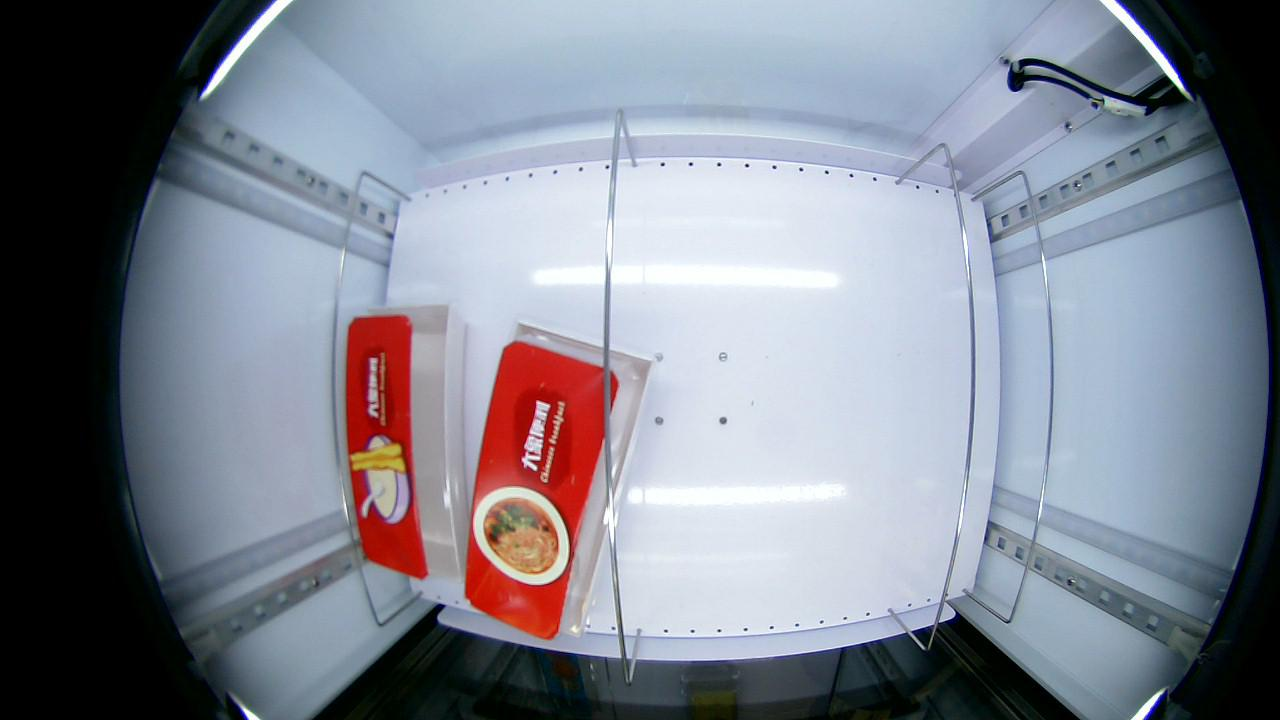goods: (475, 486, 580, 592), (357, 430, 416, 528)
